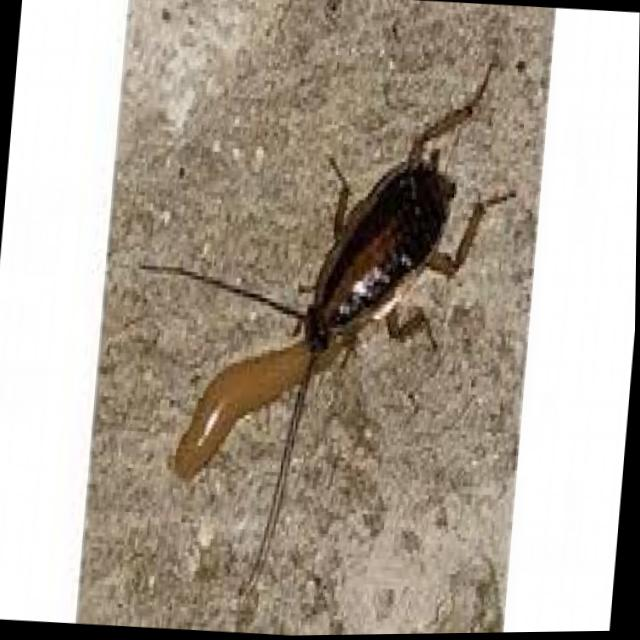Cockroach: (100, 3, 527, 639)
